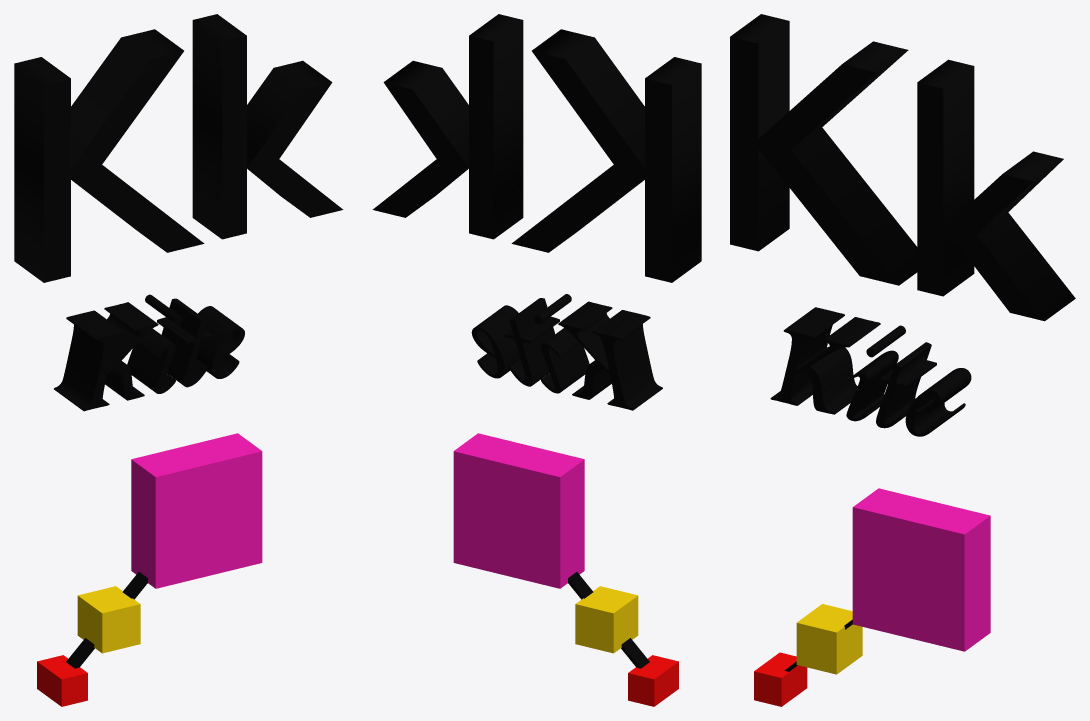
Rendered from Letter_K.glb.
The picture shows the model from 3 angles, left to right: view 1: azimuth 30°, elevation 25°; view 2: azimuth 150°, elevation 25°; view 3: azimuth 330°, elevation 25°; orthographic projection. The views are drawn at different scales.
Visible parts, largest first — view 1: Text, Cube.001, Text.001, Cube.002, Cube.003, Cube.004; view 2: Text, Cube.001, Text.001, Cube.002, Cube.003, Cube.004; view 3: Text, Cube.001, Text.001, Cube.002, Cube.003.
Boxes of the visible parts, left/top/right/bottom form: Text: left=14, top=14, right=343, bottom=282; Cube.001: left=131, top=433, right=262, bottom=588; Text.001: left=54, top=294, right=244, bottom=411; Cube.002: left=77, top=586, right=140, bottom=653; Cube.003: left=37, top=655, right=87, bottom=706; Cube.004: left=66, top=572, right=147, bottom=668; Text: left=372, top=14, right=701, bottom=282; Cube.001: left=453, top=433, right=584, bottom=588; Text.001: left=471, top=294, right=662, bottom=410; Cube.002: left=575, top=586, right=638, bottom=653; Cube.003: left=628, top=655, right=678, bottom=706; Cube.004: left=568, top=572, right=649, bottom=668; Text: left=730, top=14, right=1075, bottom=321; Cube.001: left=852, top=488, right=990, bottom=651; Text.001: left=770, top=307, right=971, bottom=436; Cube.002: left=796, top=604, right=862, bottom=674; Cube.003: left=754, top=652, right=807, bottom=706.
Size of the model in its own units: 0.7031 by 1.41 by 0.1218.
